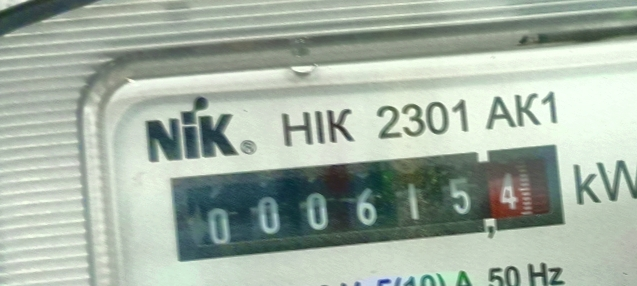0: (204, 202, 232, 245), (303, 187, 330, 231), (255, 192, 281, 233)
1: (405, 178, 421, 220)
4: (496, 168, 518, 210)
5: (447, 172, 473, 215)
6: (352, 183, 378, 225)
screen: (156, 130, 578, 272)
